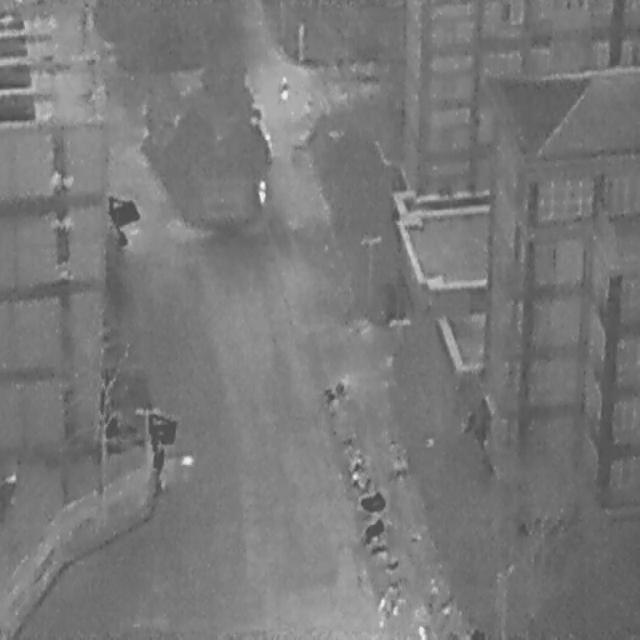Bicycle: (372, 574, 409, 625), (318, 374, 349, 406), (347, 468, 373, 493), (436, 587, 458, 615), (366, 538, 390, 556)
Person: (279, 72, 289, 100), (258, 178, 266, 204)
